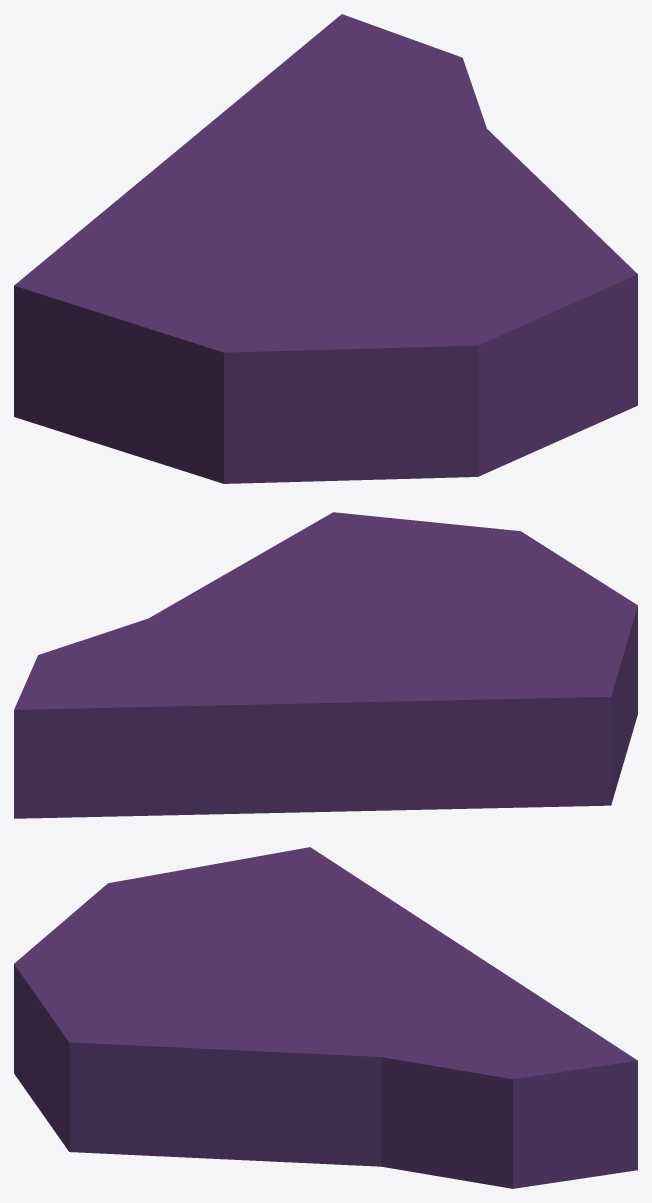
File: Rock_1.fbx
3 renders of one model, top to bottom at view 1: azimuth 30°, elevation 25°; view 2: azimuth 150°, elevation 25°; view 3: azimuth 270°, elevation 25°, orthographic. The views are drawn at different scales.
Visible parts, largest first — view 1: rock_model.025; view 2: rock_model.025; view 3: rock_model.025.
Boxes of the visible parts, bbox=[...] form: rock_model.025: bbox=[14, 14, 637, 483]; rock_model.025: bbox=[14, 512, 637, 818]; rock_model.025: bbox=[14, 847, 637, 1188].
Bounding box in the file's own units: 315 × 69.4 × 358.
